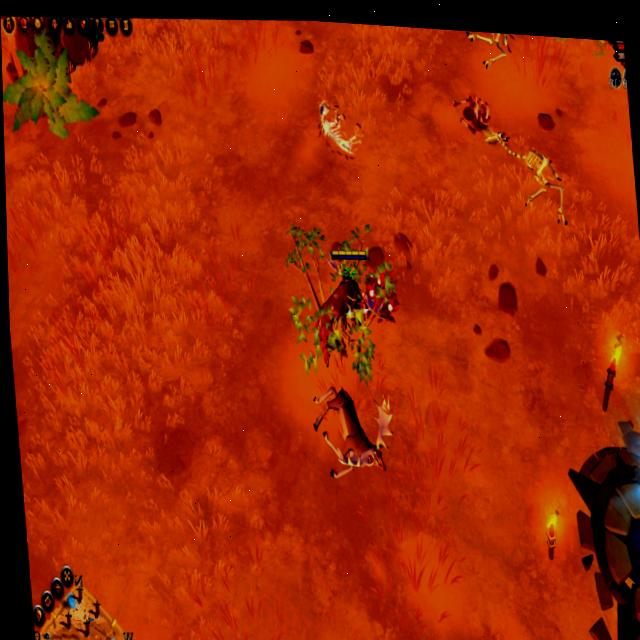hide: (366, 262, 402, 325)
mob: (309, 366, 396, 490)
ore: (306, 259, 369, 362)
red: (333, 243, 372, 321)
